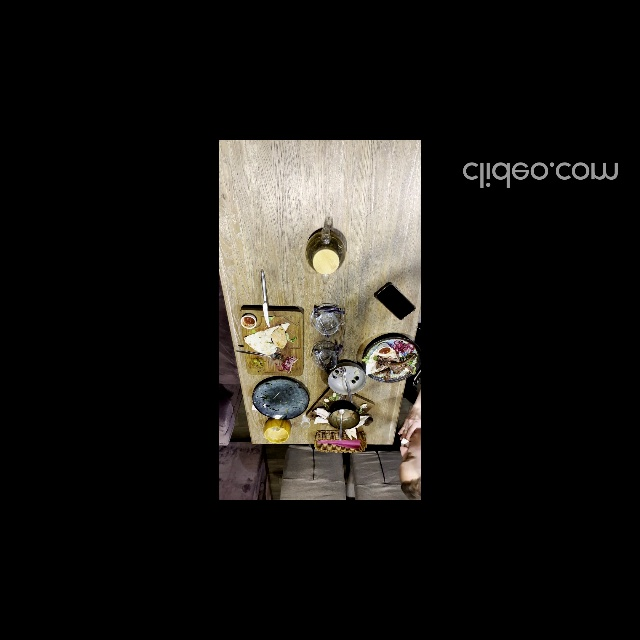Том Ям(пустая тарелка): (306, 386, 375, 431)
закуска(пустая тарелка): (239, 308, 304, 376)
мясо(пустая тарелка): (362, 336, 422, 382)
салат цезарь: (328, 362, 366, 395)
салат(пустая тарелка): (252, 378, 309, 420)
сырный суп(пустая тарелка): (264, 417, 291, 443)
